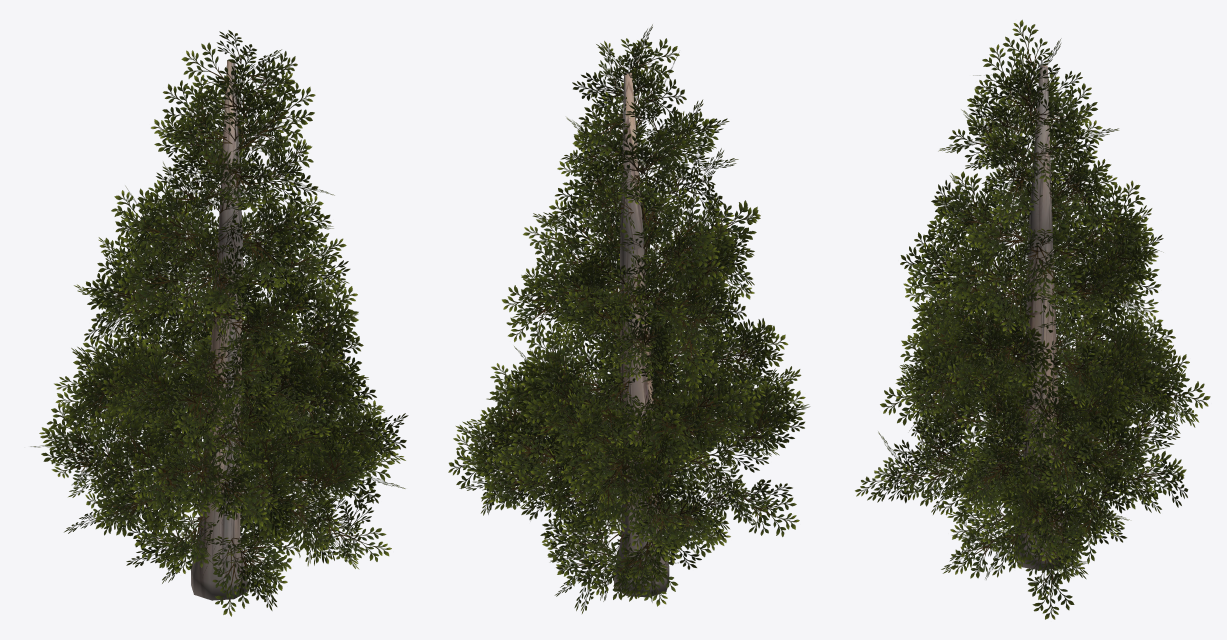
File: newTreePacked.glb
3 views of the same model, side by side, from view 1: azimuth 30°, elevation 25°; view 2: azimuth 150°, elevation 25°; view 3: azimuth 270°, elevation 25° (orthographic). The views are drawn at different scales.
Parts seen in each view (by area): view 1: Mesh_1, Mesh_1.001, Trunk; view 2: Mesh_1, Mesh_1.001, Trunk; view 3: Mesh_1, Trunk, Mesh_1.001.
Boxes of the visible parts, bbox=[...] form: Mesh_1: bbox=[30, 30, 408, 569]; Mesh_1.001: bbox=[125, 363, 310, 616]; Trunk: bbox=[191, 59, 247, 600]; Mesh_1: bbox=[448, 24, 810, 601]; Mesh_1.001: bbox=[540, 356, 730, 613]; Trunk: bbox=[614, 72, 669, 597]; Mesh_1: bbox=[855, 19, 1210, 579]; Trunk: bbox=[1014, 65, 1069, 570]; Mesh_1.001: bbox=[947, 343, 1126, 619].
Size of the model in its own units: 65.87 by 108 by 60.51.
3 materials, 3 textured.
